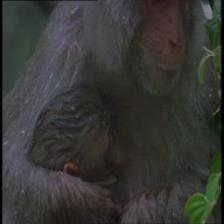monkey: (119, 2, 207, 98), (87, 102, 141, 190)
